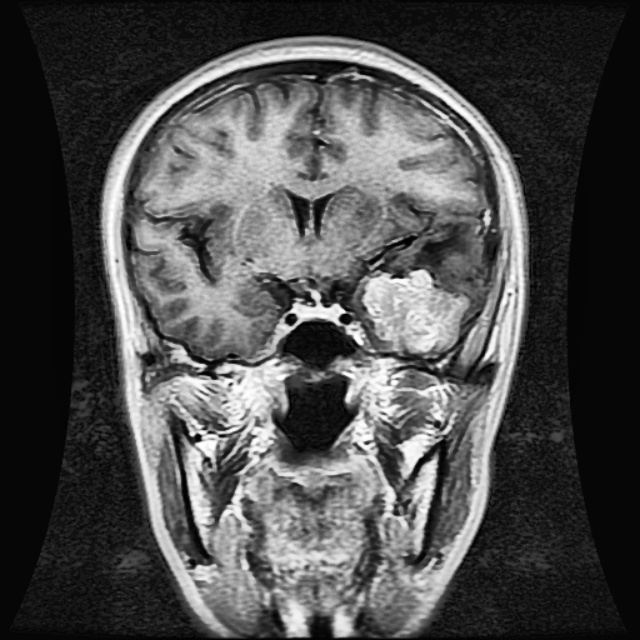Glioma: (363, 268, 469, 355)
